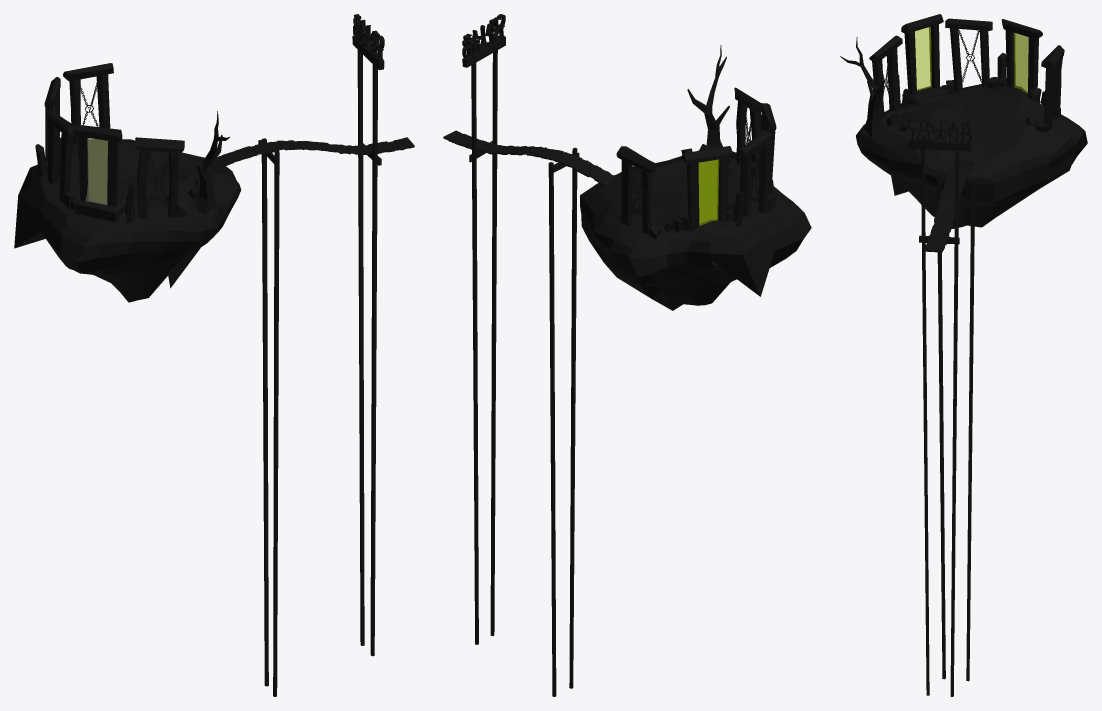
The model's file is collab_island.glb.
3 views of the same model, side by side, from view 1: azimuth 30°, elevation 25°; view 2: azimuth 150°, elevation 25°; view 3: azimuth 270°, elevation 25° (orthographic). The views are drawn at different scales.
Parts seen in each view (by area): view 1: Land, PortalMetaverse, PortalMetaverseEffect, Chain; view 2: Land, PortalKFrens, PortalKFrensEffect, Chain; view 3: Land, PortalMetaverseEffect, PortalMetaverse, PortalKFrensEffect, PortalKFrens, Chain.
Part boxes in pixels (x1,y1,x2,y2): Land: (14,14,414,696); PortalMetaverse: (86,138,107,204); PortalMetaverseEffect: (88,138,107,203); Chain: (54,78,168,211); Land: (443,14,811,696); PortalKFrens: (699,159,718,225); PortalKFrensEffect: (699,160,717,223); Chain: (629,107,761,221); Land: (840,14,1087,696); PortalMetaverseEffect: (915,27,931,90); PortalMetaverse: (915,27,930,89); PortalKFrensEffect: (1013,32,1028,93); PortalKFrens: (1015,33,1028,92); Chain: (883,30,1057,114).
Size of the model in its own units: 18.85 by 32.71 by 12.25.
